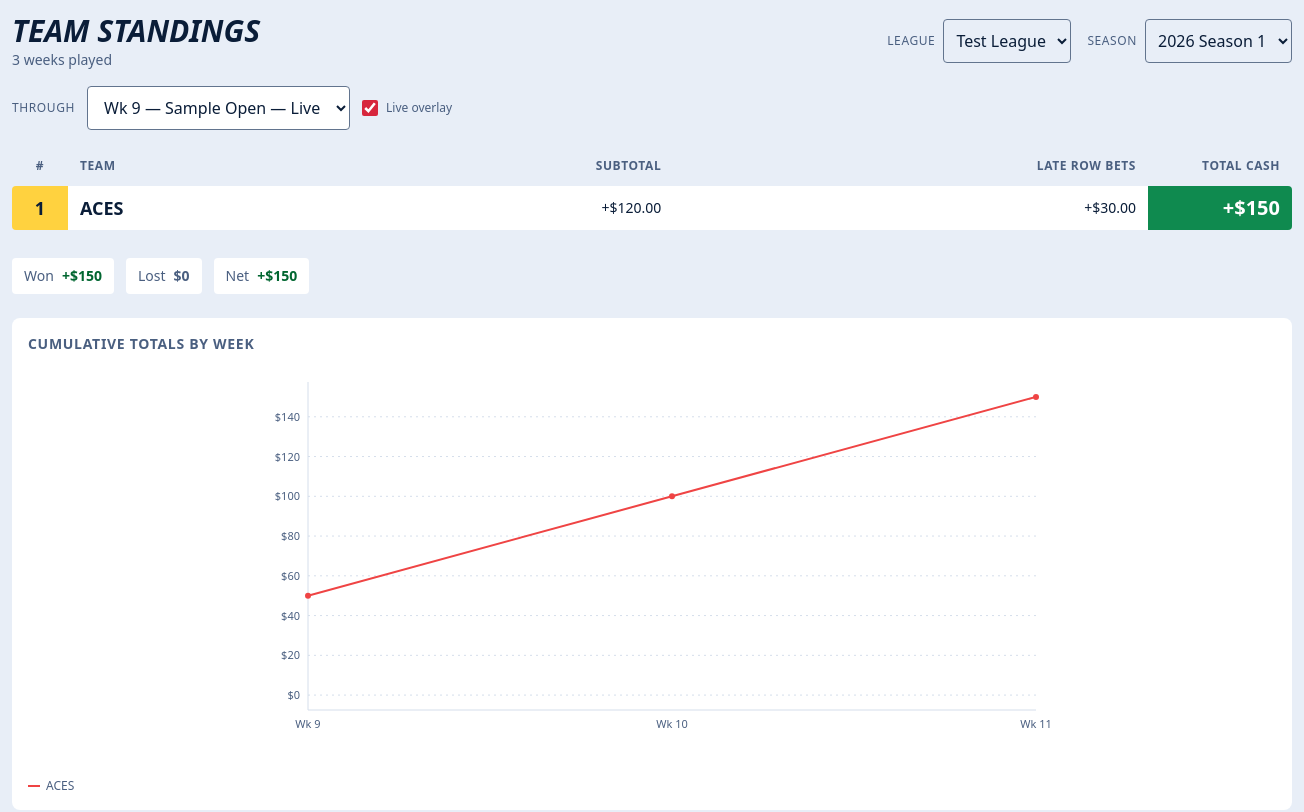
RankingsPage › shows the live toggle through the tournament in play and asks no live rankings at All Tournaments
Check: the text "3 weeks played" is shown, box x1=12 y1=50 x2=112 y2=68
Check: the checkbox labelled "Live overlay" is checked, box x1=362 y1=100 x2=378 y2=116
Select "All Tournaments" in the dropdown labelled "Through" at (218,108), box x1=87 y1=86 x2=350 y2=130
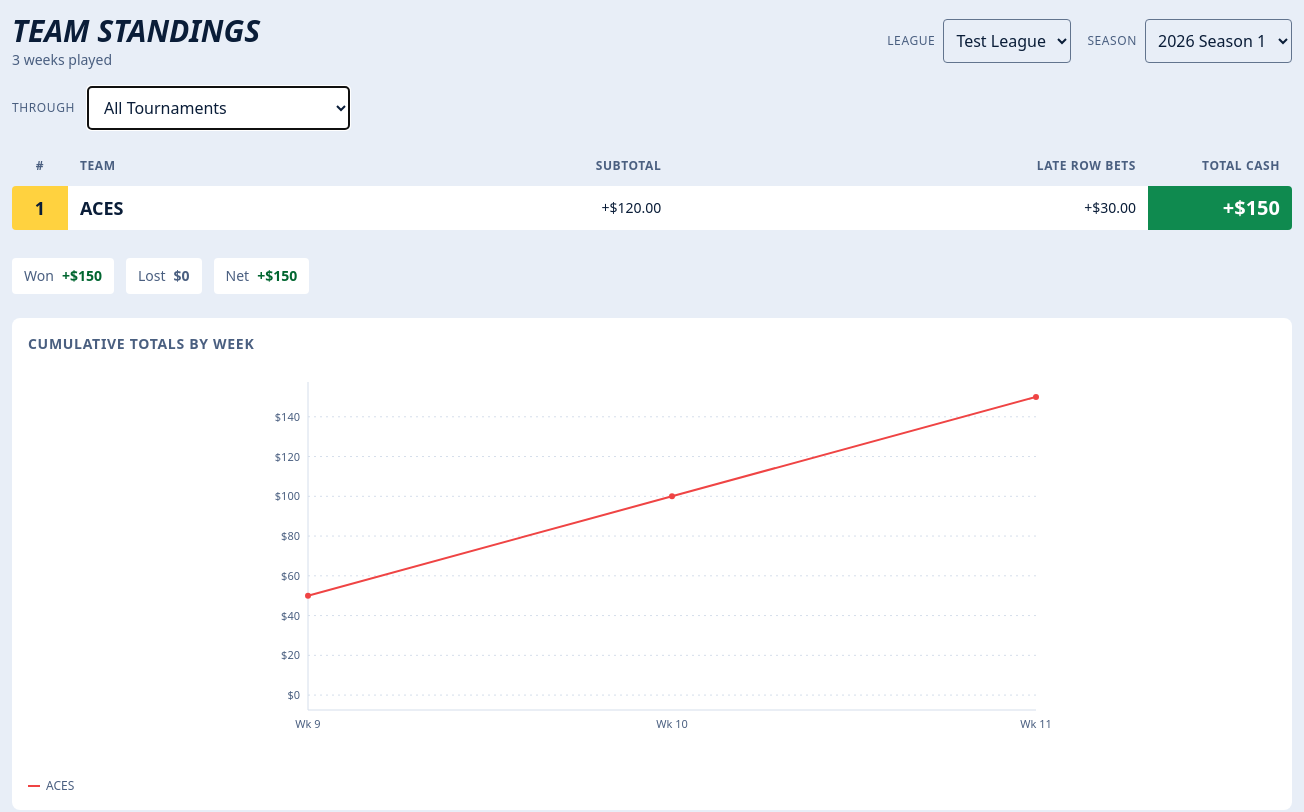
Check: the text "Live overlay" is gone
